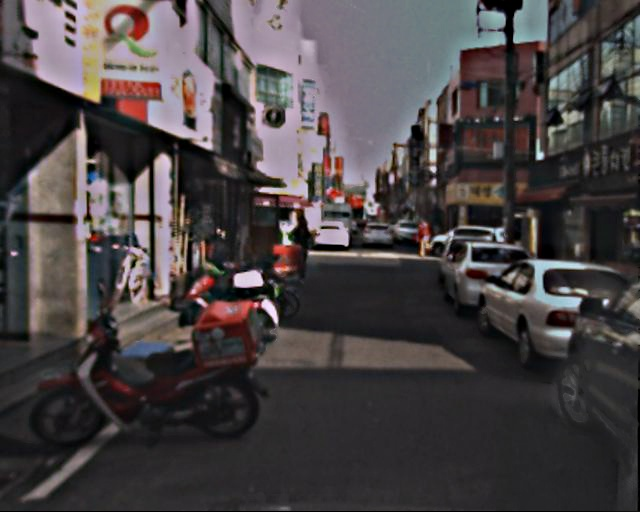person: (286, 214, 315, 284), (414, 222, 432, 257)
